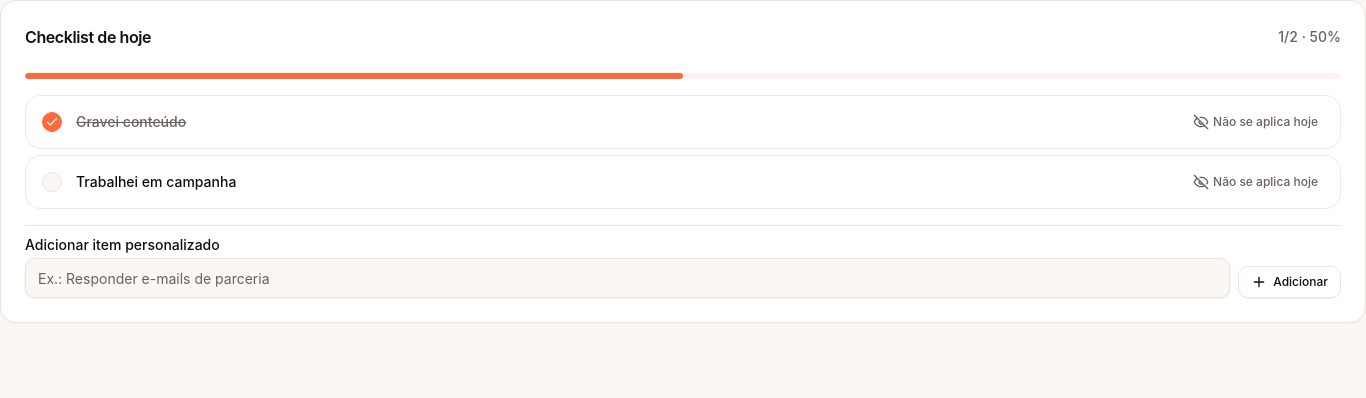
ChecklistSection › desativar um item some do denominador do percentual imediatamente (otimista)
Check: the text "1/2 · 50%" is shown, box left=1278, top=27, right=1341, bottom=47
Click the button "Não se aplica hoje" in the row of "Trabalhei em campanha".
click(1256, 182)  # box left=1185, top=166, right=1326, bottom=198
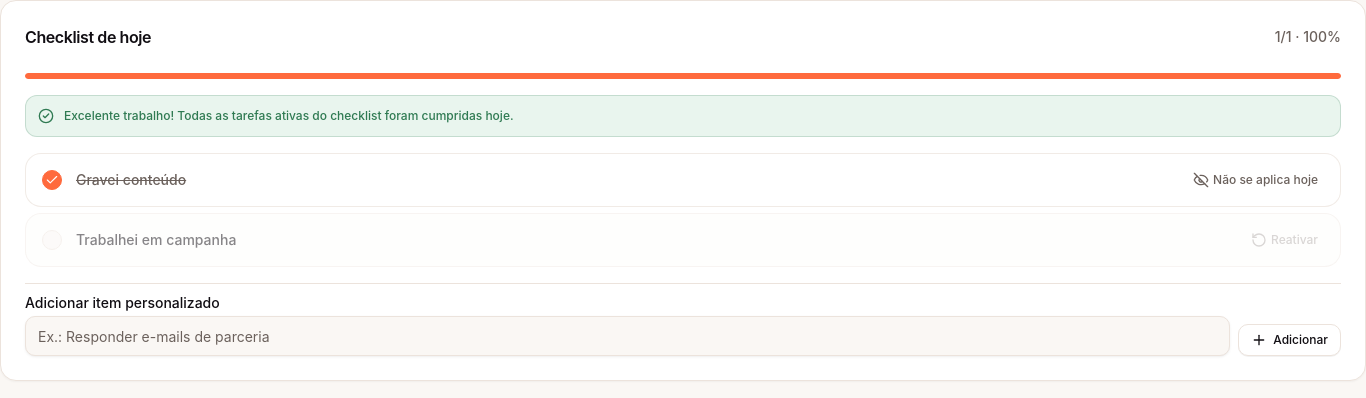
Check: the text "1/1 · 100%" is shown, box left=1275, top=27, right=1341, bottom=47
